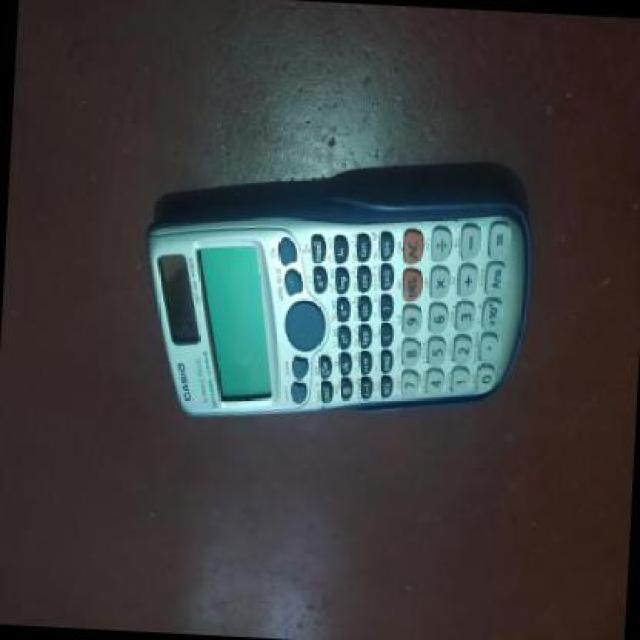Calculator: (130, 162, 536, 440)
